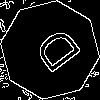D: (25, 25, 83, 81)
